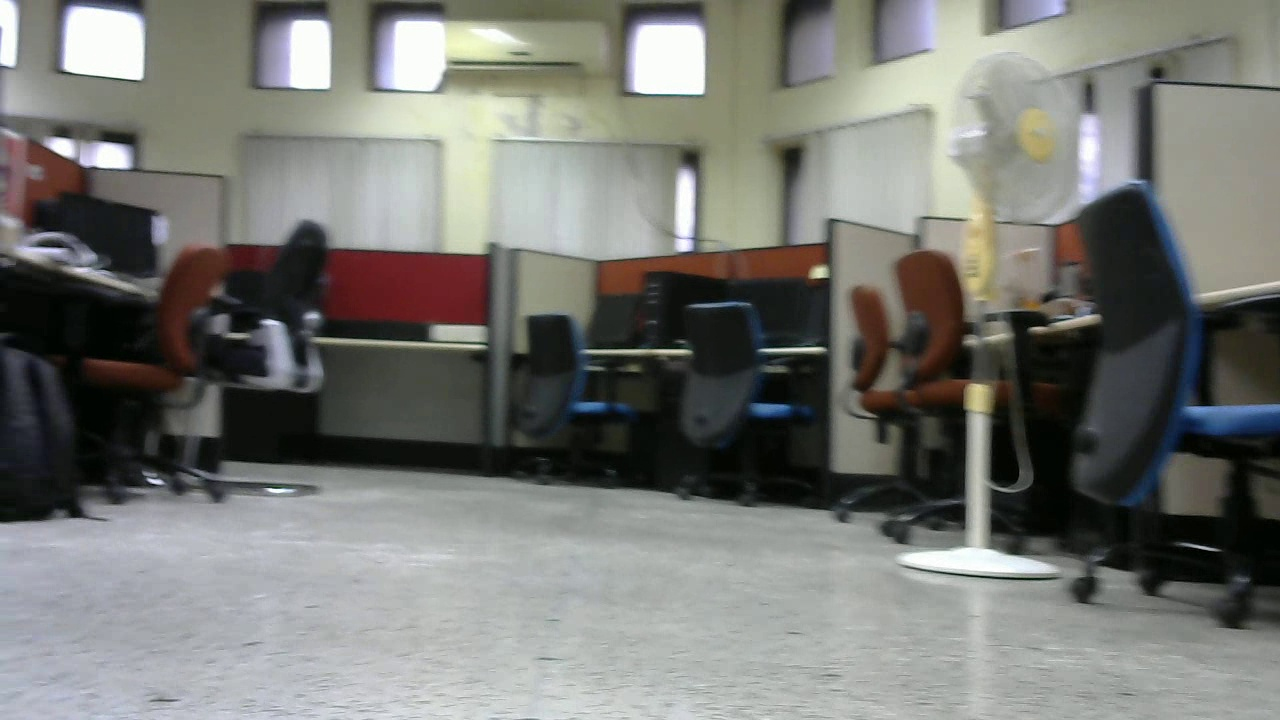chair: (1040, 186, 1280, 626), (837, 251, 1032, 539), (57, 242, 229, 508), (193, 218, 339, 491), (667, 299, 812, 509), (505, 314, 644, 485)
